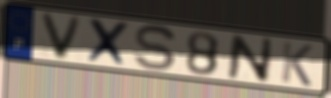8: (185, 30, 221, 77)
K: (279, 39, 315, 89)
N: (225, 33, 275, 85)
S: (134, 23, 178, 73)
V: (38, 11, 86, 63)
X: (83, 16, 133, 70)
